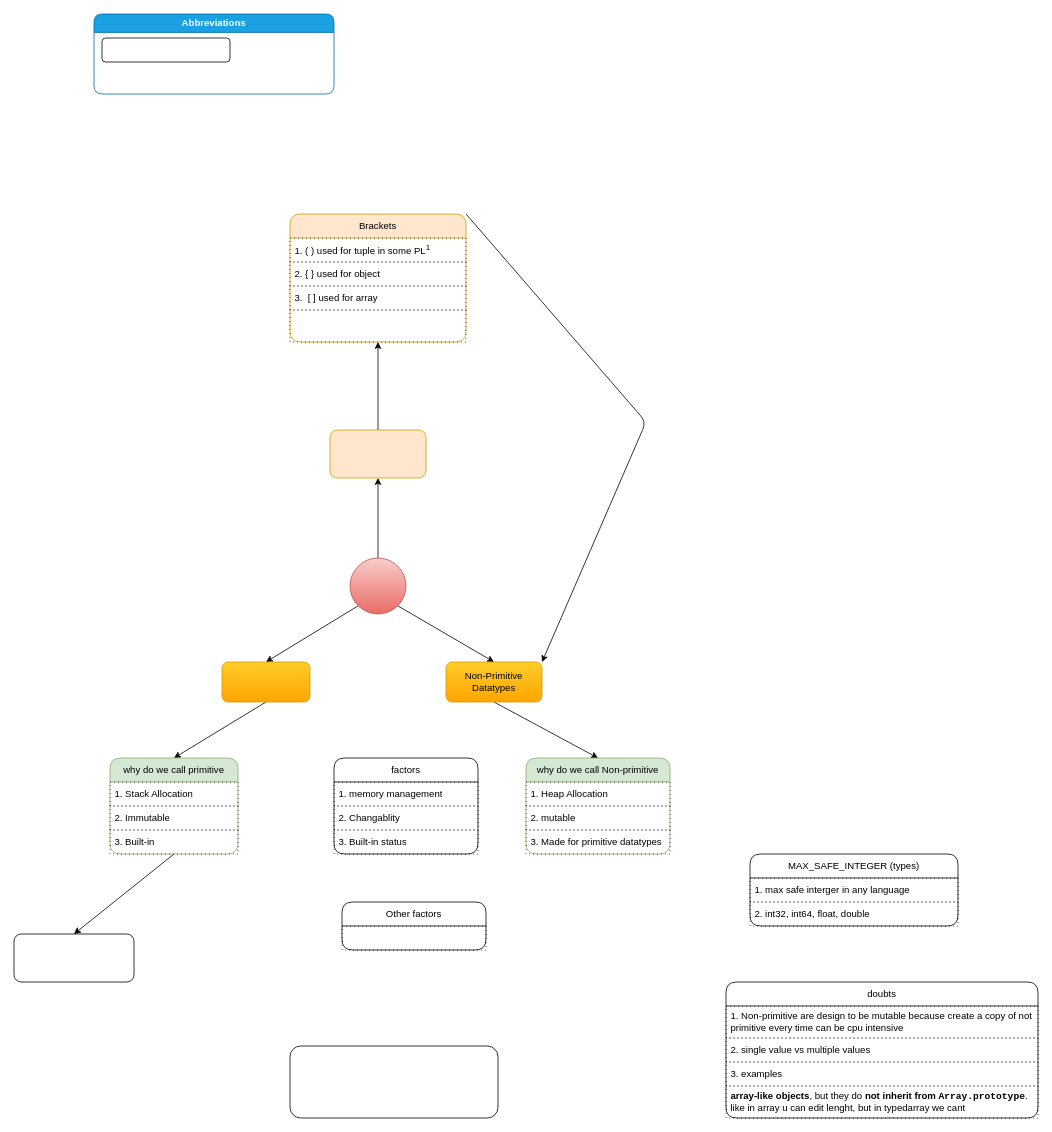
The diagram is 1052 pixels wide and 1132 high, and some of its shapes have lost their labels. Each missing label, with the centre of its shape:
1. PL = programming lang: pixel 165 49
1. senematic like in py: pixel 413 937
4. < > used for html/xml tags, template parameter in c++ etc: pixel 377 325
CRUD operation of all type of datatype for both value and memory pointer: pixel 393 1081
Datatypes: pixel 377 585
memory size used by each datatypes varies based on PL 1: pixel 73 957
Primitive Datatypes: pixel 265 681
Types of Brackets we have: pixel 377 453
